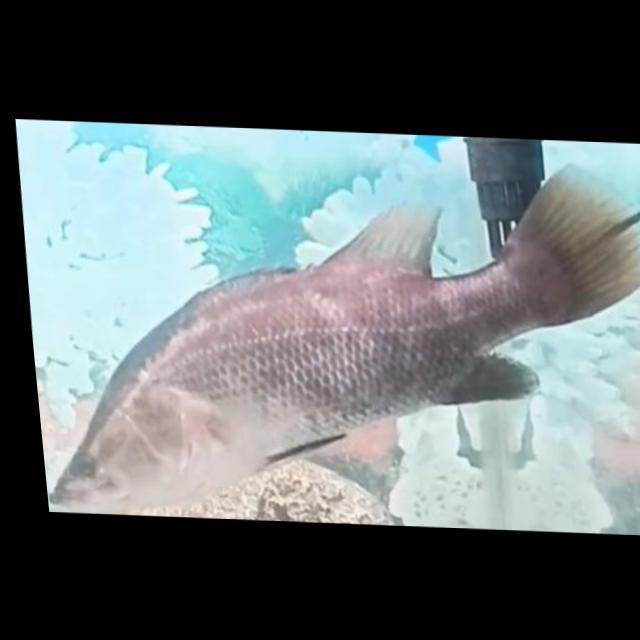Seabass: (14, 134, 640, 536)
